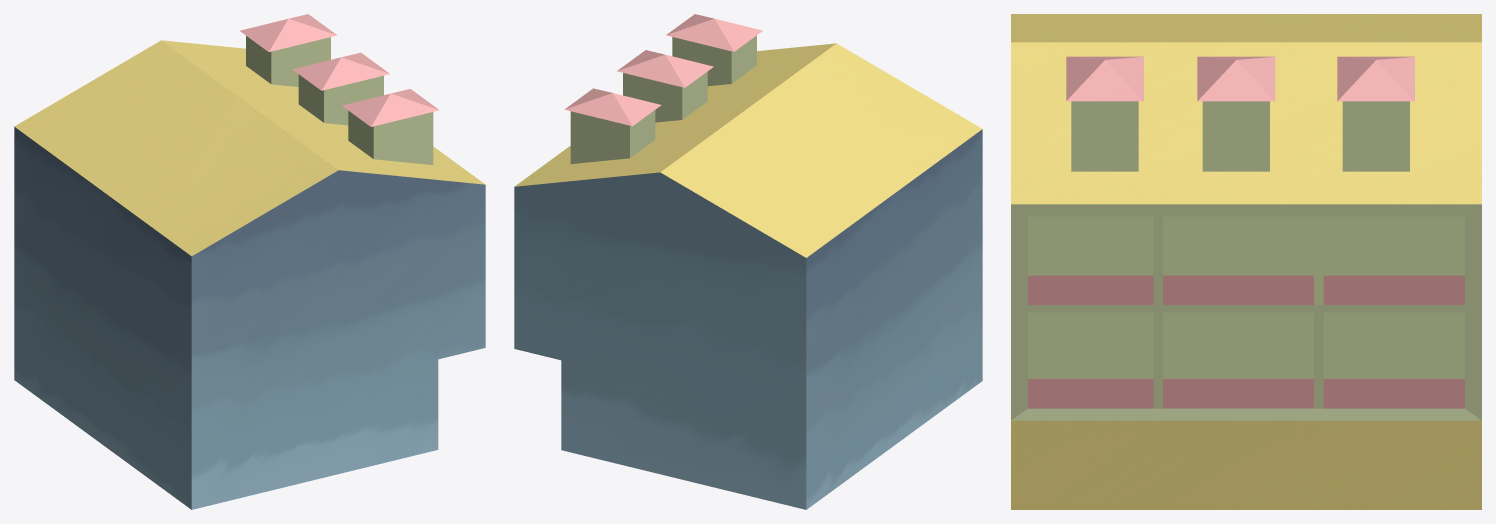
Rendered from maisons.fbx.
3 views of the same model, side by side, from view 1: azimuth 30°, elevation 25°; view 2: azimuth 150°, elevation 25°; view 3: azimuth 270°, elevation 25° (orthographic). The views are drawn at different scales.
Visible parts, largest first — view 1: maisons; view 2: maisons; view 3: maisons.
Boxes of the visible parts, x1,y1,x2,y2 form: maisons: (14, 14, 485, 509); maisons: (514, 14, 982, 509); maisons: (1011, 14, 1481, 509).
Size of the model in its own units: 335 by 363 by 350.
